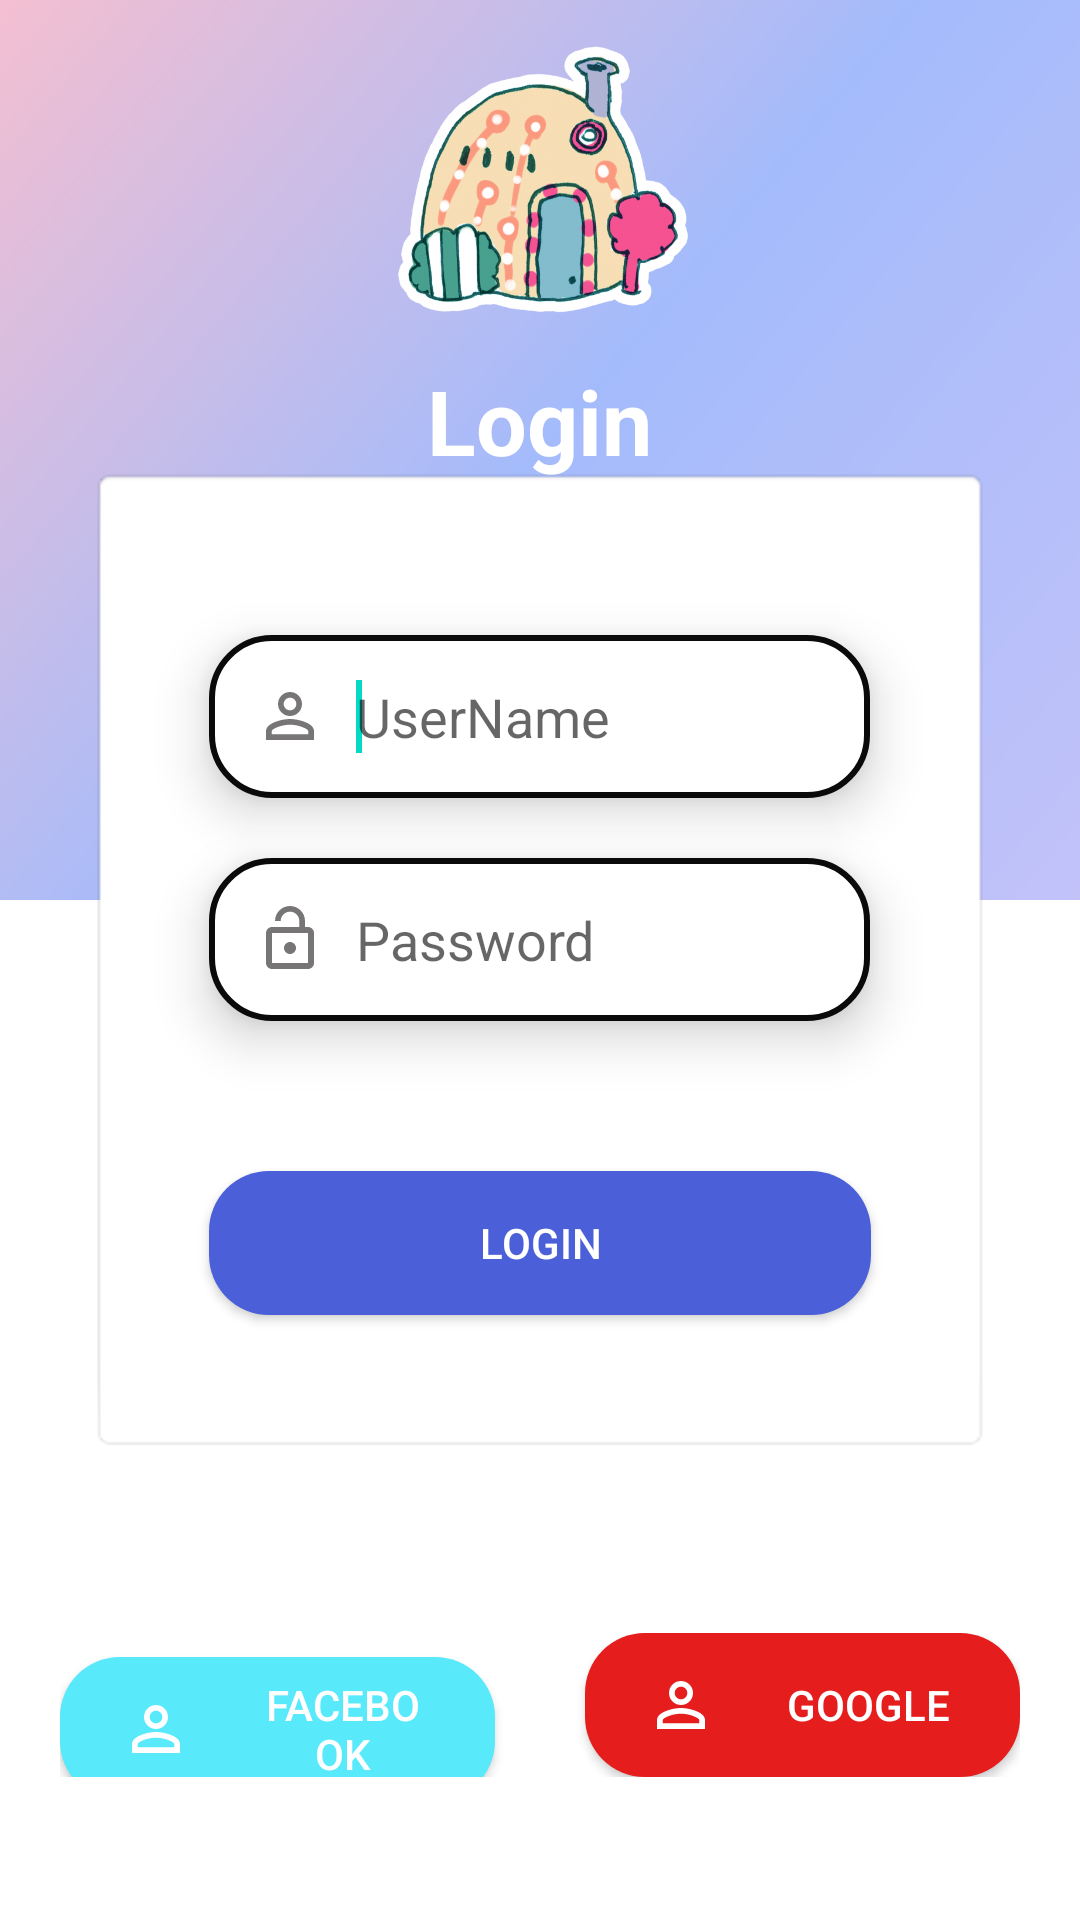

Locate icon controls on the screen. Image size 1080px×1920px, boxes as (x1, y1, x2, y2).
home: (390, 30, 688, 312)
